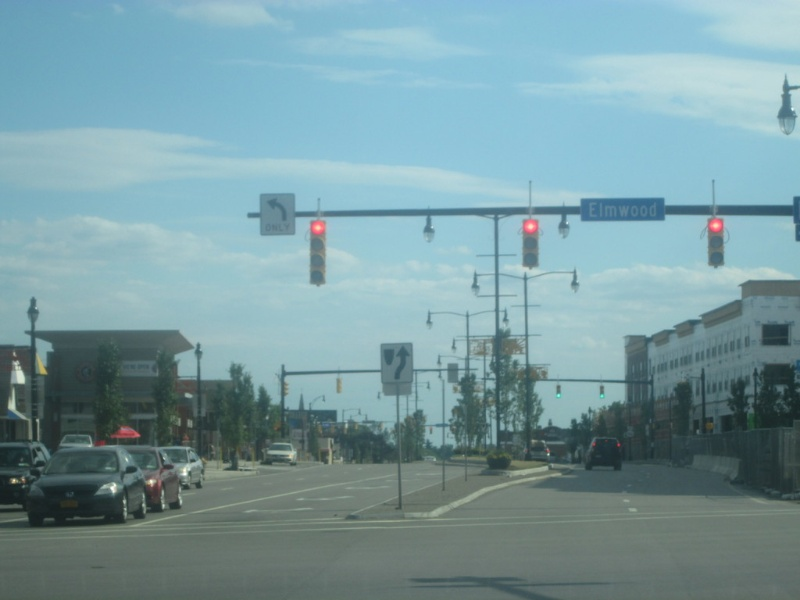left_turn_ahead: (256, 190, 298, 233)
red_light: (703, 211, 731, 235), (519, 215, 544, 236), (308, 215, 328, 235)
